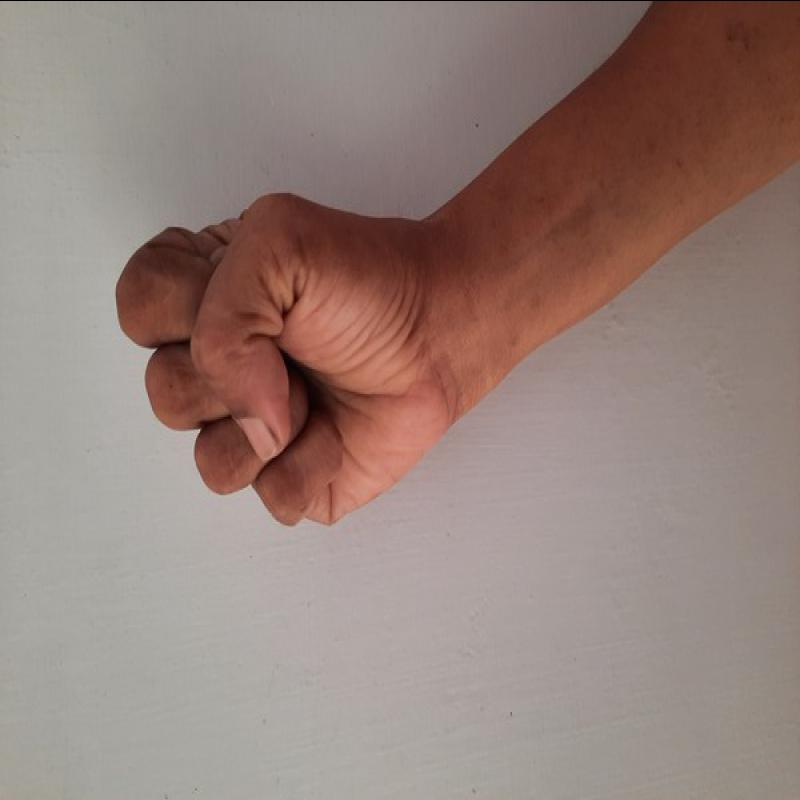Mushti: (96, 154, 482, 572)
